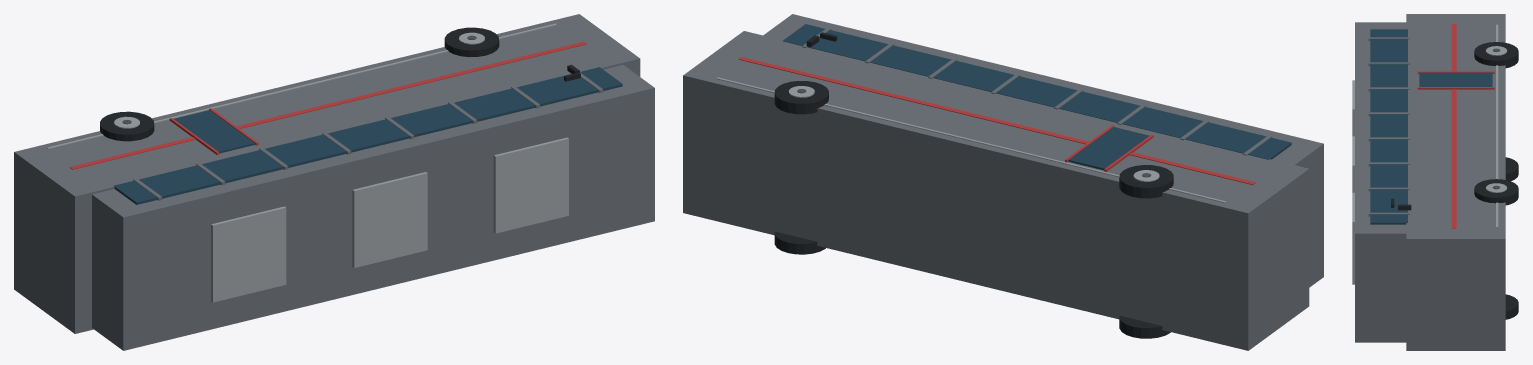
Rendered from RM_Bus_12.glb.
The picture shows the model from 3 angles, left to right: view 1: azimuth 30°, elevation 25°; view 2: azimuth 150°, elevation 25°; view 3: azimuth 270°, elevation 25°; orthographic projection. The views are drawn at different scales.
Visible parts, largest first — view 1: part_001, part_000, part_002, part_037, part_038, part_039, part_013, part_040, part_030, part_024, part_014; view 2: part_000, part_002, part_001, part_013, part_040, part_030, part_024, part_014, part_027, part_021; view 3: part_000, part_001, part_002, part_013, part_040, part_024, part_030, part_014, part_027, part_021, part_039, part_042 (+5 smaller).
Part boxes in pixels (<box>): part_001: <box>92,65,654,350</box>; part_000: <box>14,14,640,333</box>; part_002: <box>114,67,622,204</box>; part_037: <box>211,206,286,302</box>; part_038: <box>352,172,427,267</box>; part_039: <box>493,137,568,233</box>; part_013: <box>69,41,586,169</box>; part_040: <box>174,110,254,153</box>; part_030: <box>444,27,499,57</box>; part_024: <box>100,111,154,141</box>; part_014: <box>47,23,556,149</box>; part_000: <box>683,31,1309,350</box>; part_002: <box>783,24,1291,159</box>; part_001: <box>763,14,1323,287</box>; part_013: <box>738,57,1255,184</box>; part_040: <box>1068,127,1149,170</box>; part_030: <box>774,81,828,114</box>; part_024: <box>1119,165,1173,198</box>; part_014: <box>716,77,1225,202</box>; part_027: <box>774,231,825,254</box>; part_021: <box>1119,315,1170,338</box>; part_000: <box>1406,14,1505,350</box>; part_001: <box>1355,22,1406,342</box>; part_002: <box>1370,29,1407,224</box>; part_013: <box>1451,23,1456,228</box>; part_040: <box>1419,72,1492,86</box>; part_024: <box>1474,42,1518,68</box>; part_030: <box>1474,179,1518,205</box>; part_014: <box>1496,24,1498,227</box>; part_027: <box>1505,294,1518,319</box>; part_021: <box>1505,157,1518,181</box>; part_039: <box>1352,192,1354,284</box>; part_042: <box>1417,87,1494,89</box>.
Size of the model in its own units: 11.22 by 2.93 by 3.51.
